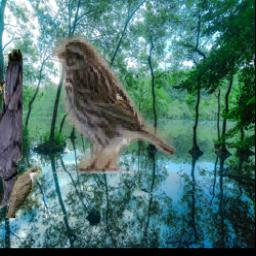Crow: (0, 49, 23, 208)
Cuckoo: (5, 168, 42, 219)
Sparrow: (52, 34, 177, 175)
